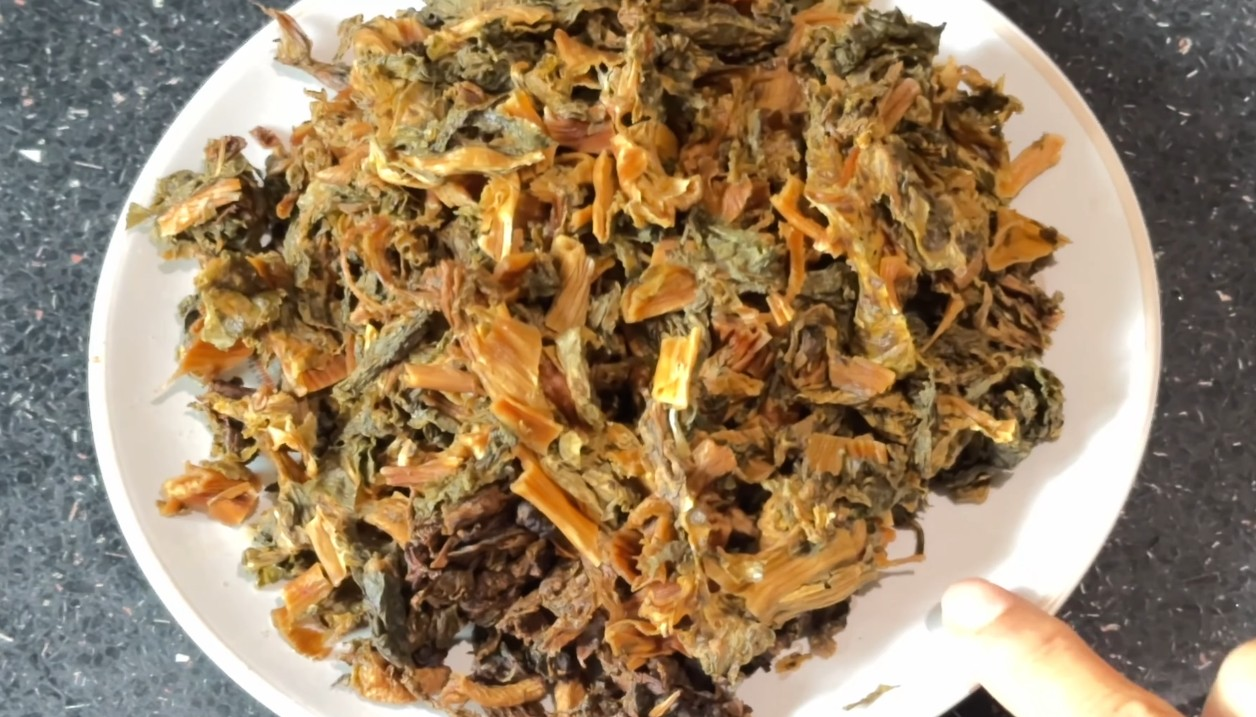gundruk: (218, 3, 1035, 690)
